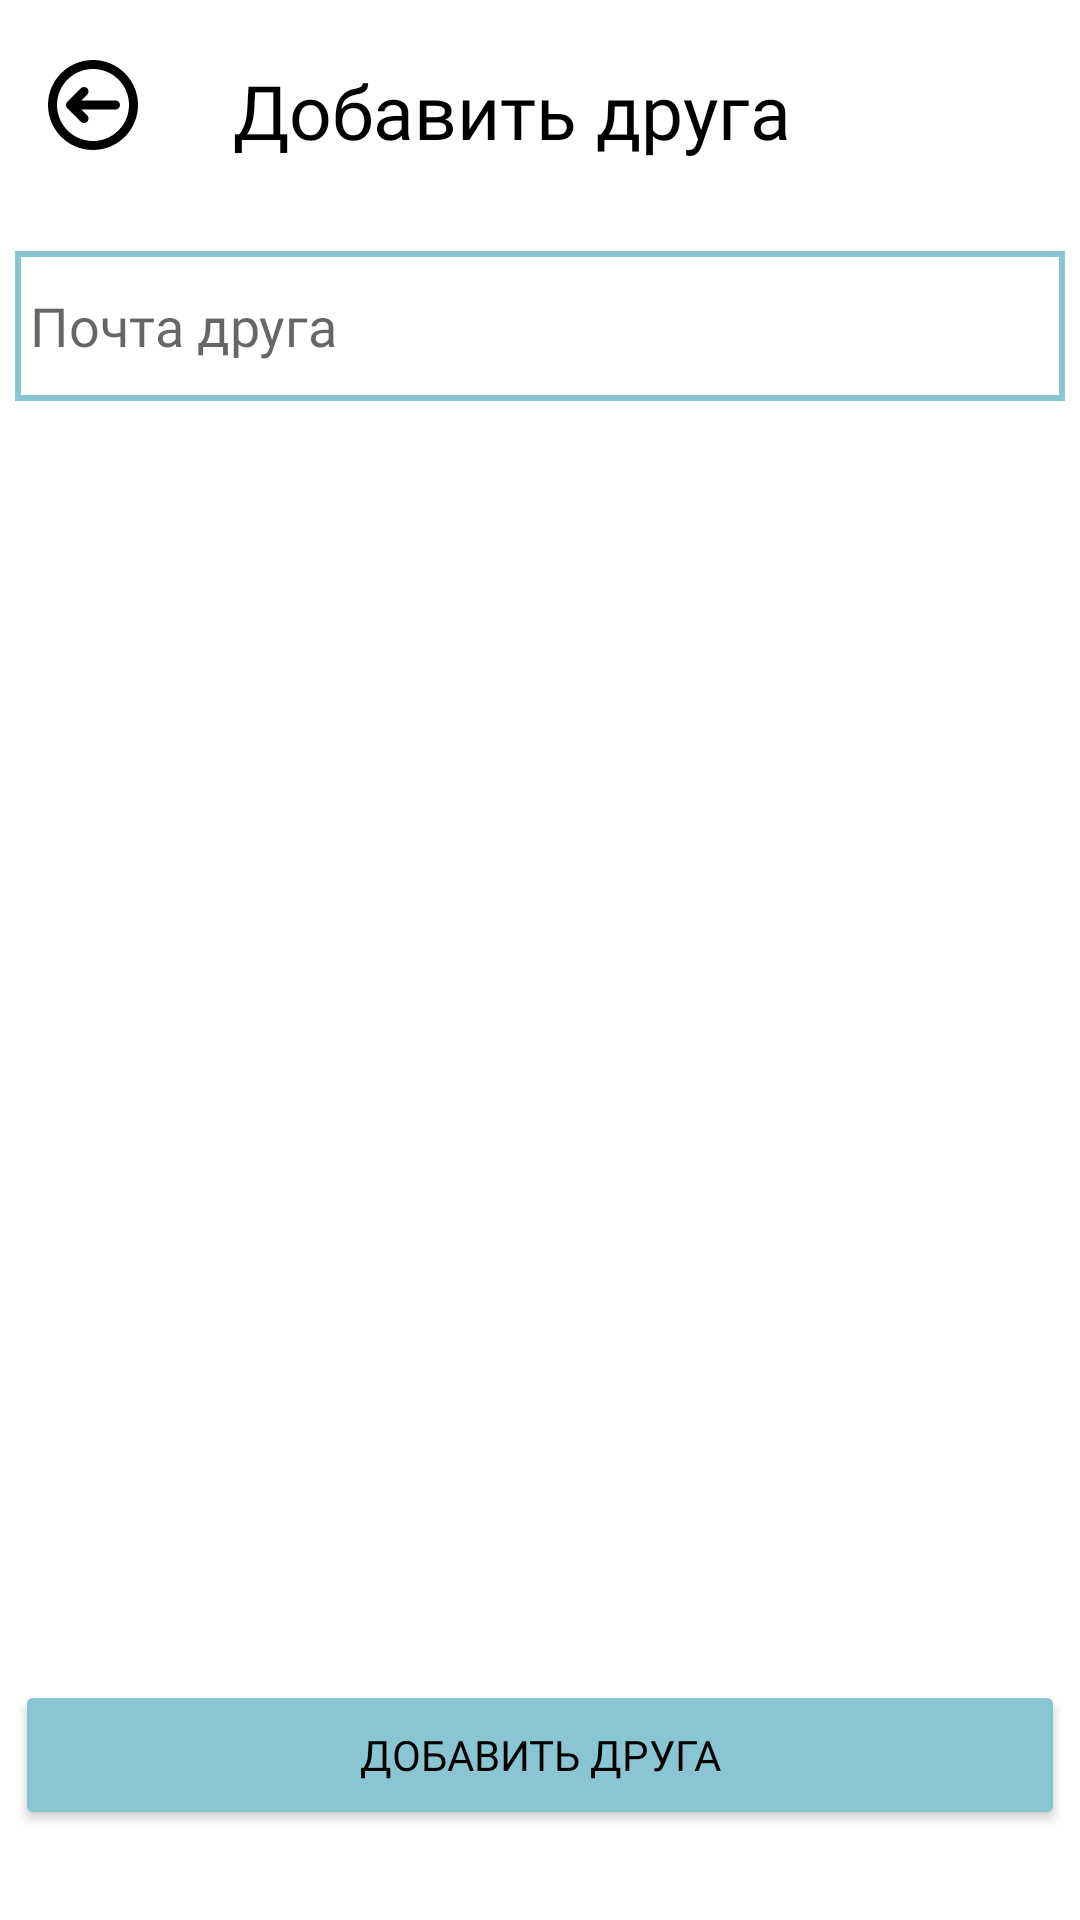

Icons on this 1080×1920 Android screen, each with the point to tap as (x,y):
go back: (93,105)
